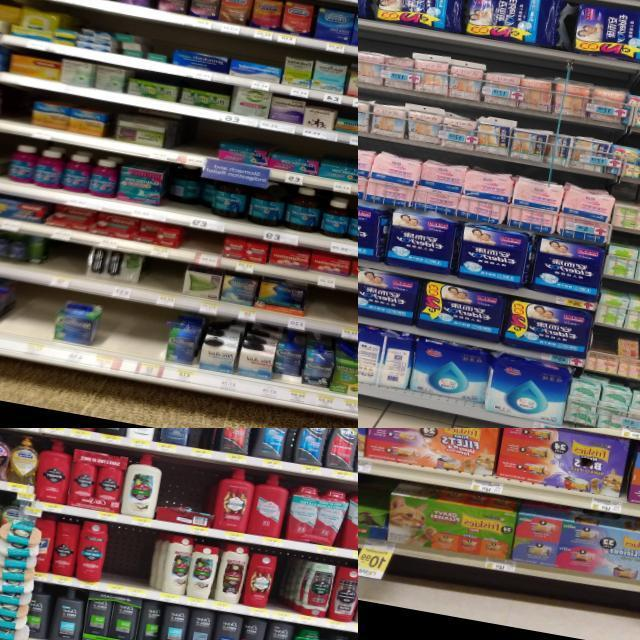empty: (0, 285, 57, 356), (122, 308, 170, 377), (305, 285, 358, 338), (90, 306, 130, 370), (101, 524, 133, 594), (45, 240, 88, 290), (126, 530, 157, 598), (143, 257, 184, 307), (269, 554, 297, 621), (182, 120, 216, 168), (182, 228, 224, 266), (5, 88, 34, 136), (187, 428, 218, 457)
